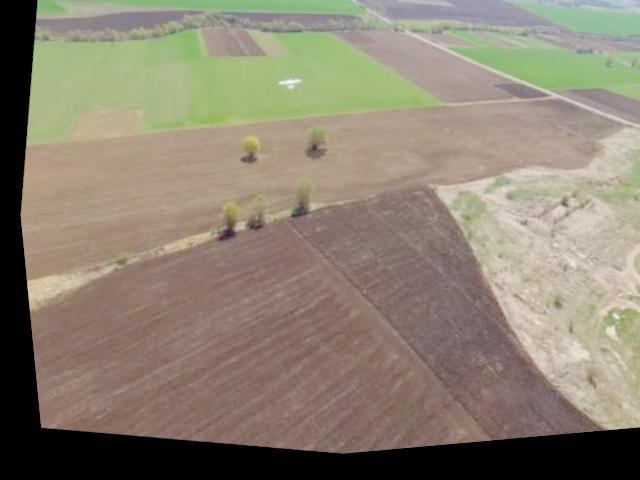uav: (268, 68, 308, 105)
